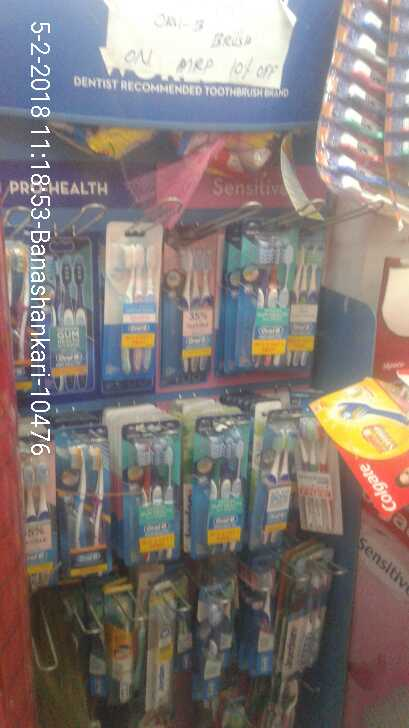oralb: (9, 429, 117, 572), (28, 244, 95, 406), (104, 216, 159, 391), (233, 234, 289, 390), (166, 227, 220, 381), (124, 420, 184, 557), (186, 417, 245, 552), (260, 418, 302, 542), (293, 244, 318, 372)
